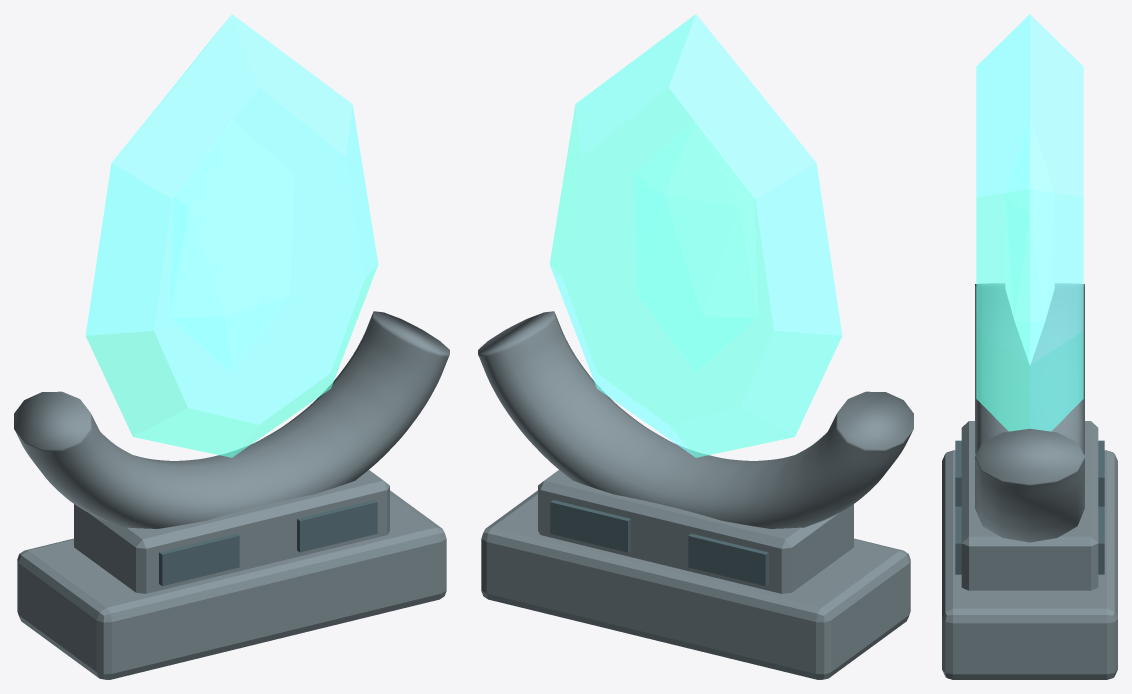
The model's file is Prop_04_水晶魔镜.glb.
The picture shows the model from 3 angles, left to right: view 1: azimuth 30°, elevation 25°; view 2: azimuth 150°, elevation 25°; view 3: azimuth 270°, elevation 25°; orthographic projection.
Visible parts, largest first — view 1: CrystalGem, Cube, StoneCradle, Icosphere, Cube.001, Cube.003, Cube.002; view 2: CrystalGem, Cube, StoneCradle, Icosphere, Cube.001, Cube.005, Cube.004; view 3: CrystalGem, StoneCradle, Cube, Cube.001, Icosphere, Cube.003, Cube.005, Cube.002, Cube.004.
Boxes of the visible parts, x1,y1,x2,y2 form: CrystalGem: [85, 14, 378, 457]; Cube: [17, 490, 446, 679]; StoneCradle: [14, 311, 449, 528]; Icosphere: [170, 120, 293, 371]; Cube.001: [74, 470, 389, 593]; Cube.003: [297, 500, 377, 552]; Cube.002: [159, 533, 239, 586]; CrystalGem: [549, 14, 842, 457]; Cube: [481, 490, 910, 679]; StoneCradle: [478, 311, 913, 528]; Icosphere: [634, 120, 757, 371]; Cube.001: [538, 470, 853, 593]; Cube.005: [550, 500, 630, 552]; Cube.004: [688, 533, 768, 586]; CrystalGem: [976, 14, 1083, 431]; StoneCradle: [975, 283, 1084, 542]; Cube: [942, 450, 1117, 679]; Cube.001: [961, 421, 1098, 590]; Icosphere: [1005, 119, 1054, 364]; Cube.003: [955, 506, 961, 574]; Cube.005: [1098, 506, 1104, 574]; Cube.002: [955, 440, 961, 506]; Cube.004: [1098, 440, 1104, 506].
Bounding box in the file's own units: 1.93 × 2.65 × 0.72.
